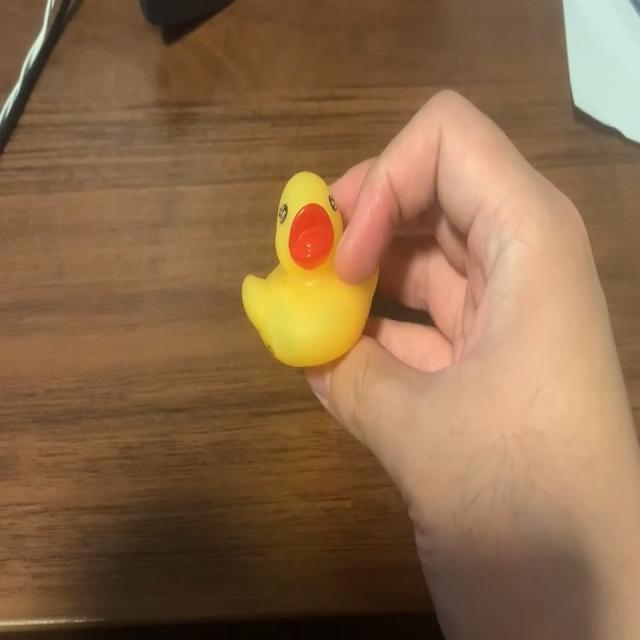rubber-duck: (241, 171, 375, 365)
